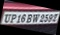character: (32, 13, 40, 22), (4, 13, 11, 22), (10, 13, 17, 22), (52, 12, 58, 22), (20, 13, 26, 22), (26, 13, 32, 22), (43, 13, 49, 22), (16, 14, 21, 23), (39, 13, 44, 22), (48, 13, 53, 22)
